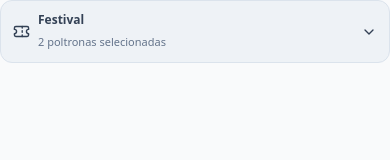
Test: mobile sales presentation › shows only supplied travel facts and no invented monetary values
The image size is (390, 160).
Click the text "Festival".
click(61, 20)  # box [38,11,84,28]
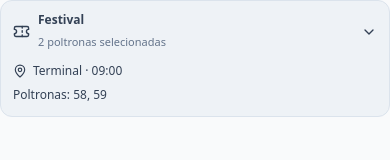
Check: the text "2 poltronas selecionadas" is shown, box [38,34,166,49]
Check: the text "Poltronas: 58, 59" is shown, box [13,86,107,103]
